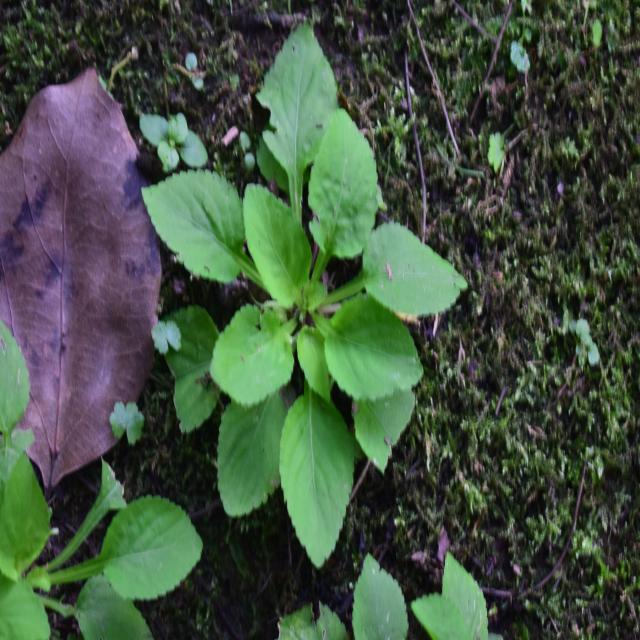Viola: (133, 48, 460, 532)
